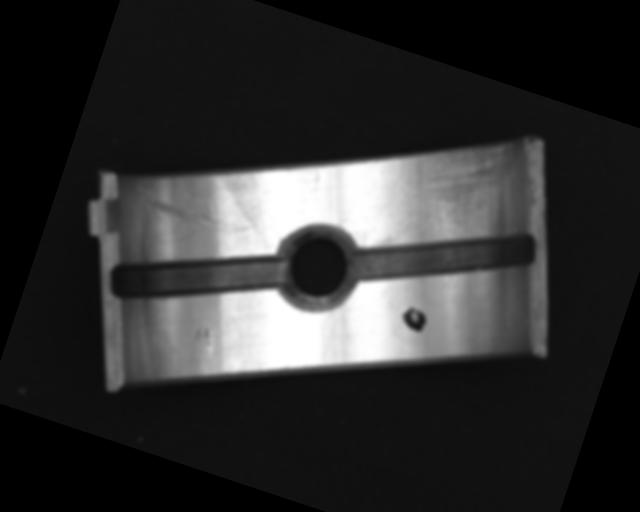blot: (397, 303, 430, 333)
bruise: (187, 323, 222, 362)
gap: (348, 182, 540, 329), (104, 210, 293, 346)
hole: (262, 209, 372, 322)
nick: (120, 180, 262, 267)
scratch: (374, 107, 525, 279)
